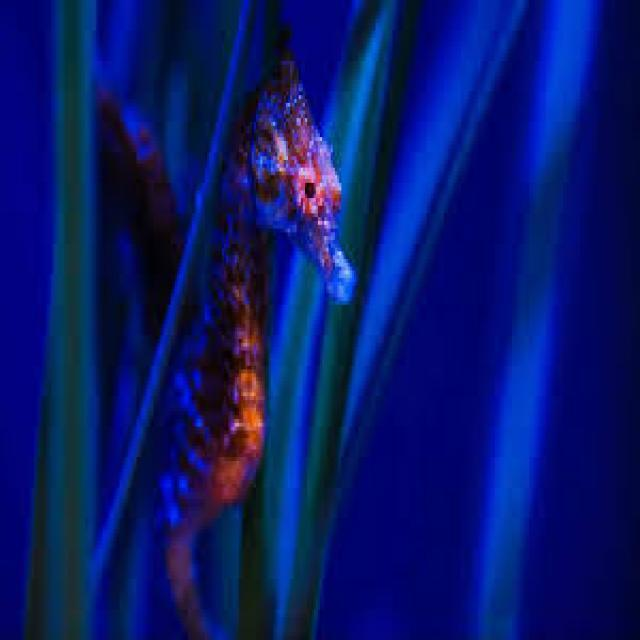SeaHorse: (166, 19, 358, 640)
